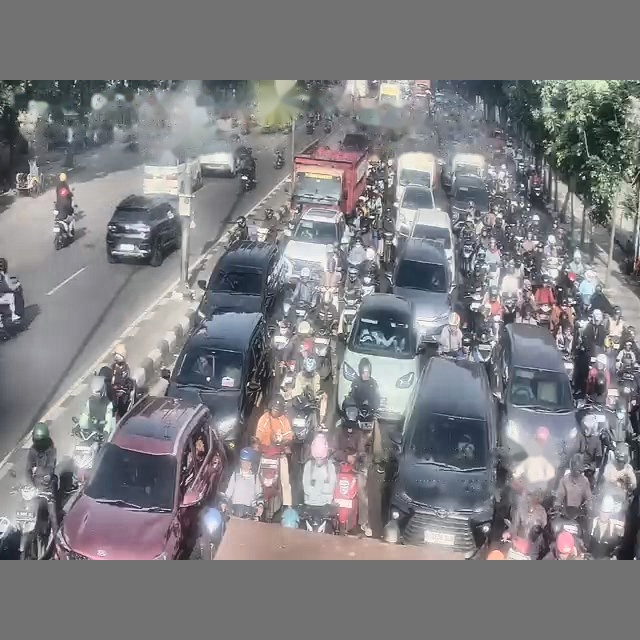Mobil: (55, 396, 226, 559), (389, 357, 498, 554), (166, 312, 270, 450), (492, 323, 577, 466), (337, 293, 419, 421), (197, 240, 285, 319), (391, 238, 456, 343), (106, 195, 181, 266), (283, 207, 345, 280), (410, 209, 456, 281), (199, 135, 248, 176), (395, 184, 435, 233), (450, 175, 489, 224), (340, 133, 371, 153)
Motor: (14, 485, 54, 559), (72, 417, 104, 486), (258, 445, 285, 522), (333, 462, 358, 534), (53, 205, 74, 250), (274, 150, 284, 169)
Truk: (291, 146, 368, 214)
